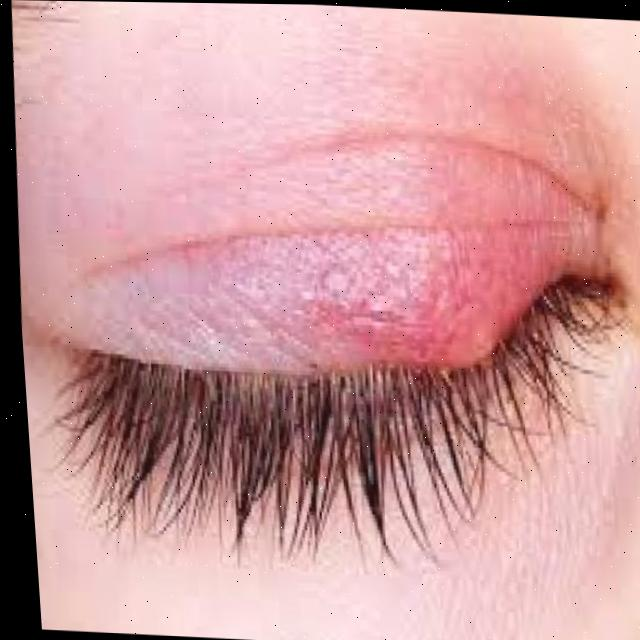Rosacea: (252, 171, 548, 384)
